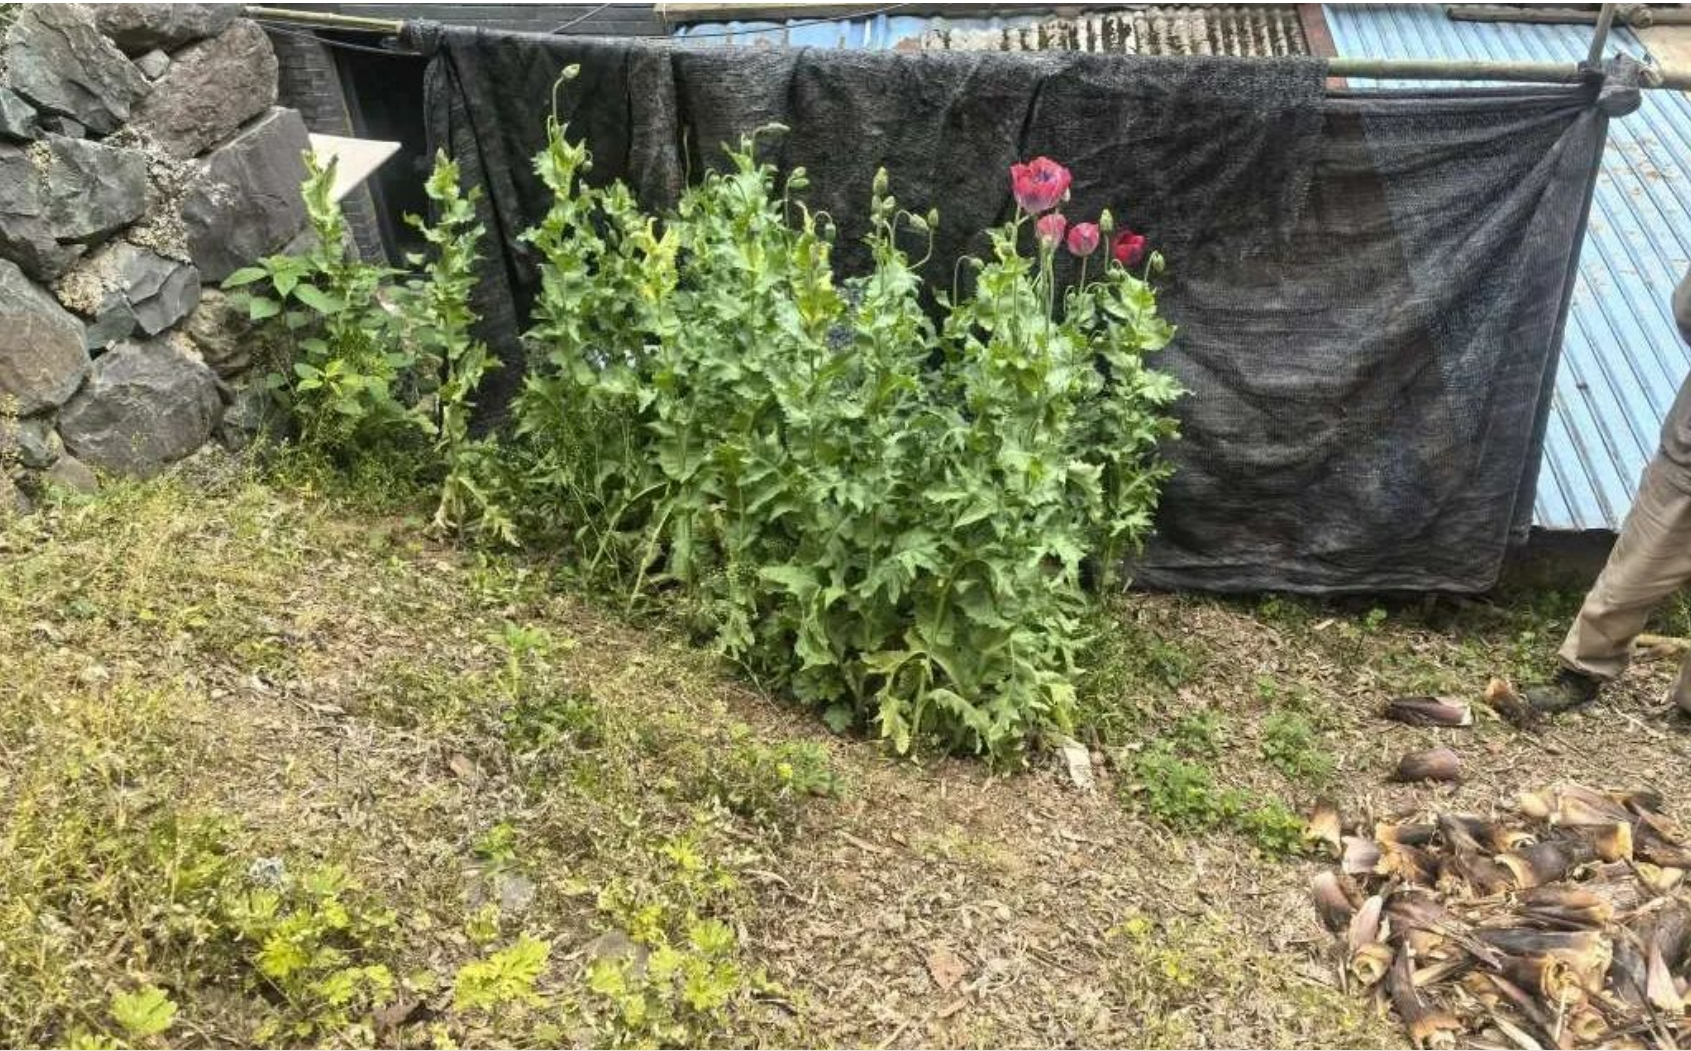Poppy: (401, 54, 1173, 760)
